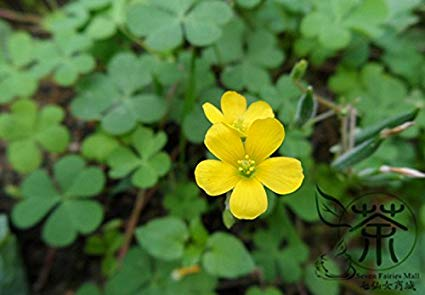oxalis: (17, 27, 179, 239), (266, 4, 425, 118), (109, 201, 250, 295)
